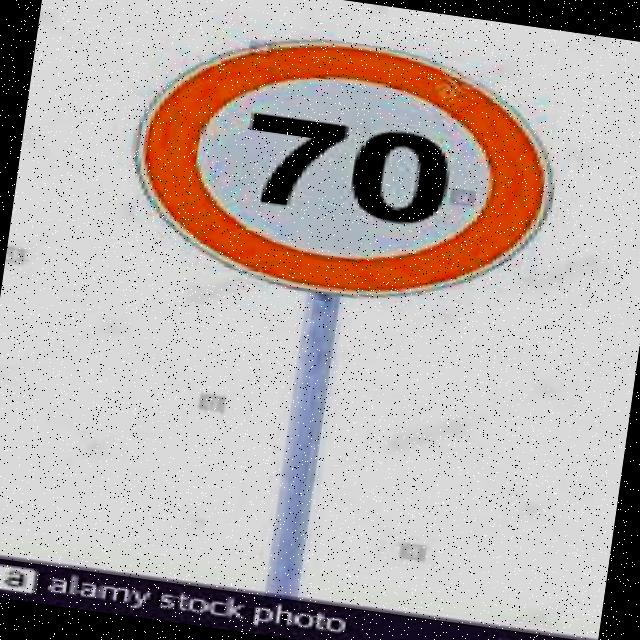Ograniczenie predkosci do 70: (195, 65, 492, 264)
